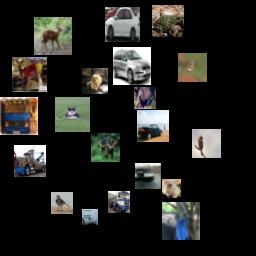automobile: (113, 47, 151, 85), (105, 7, 140, 42), (137, 110, 169, 142)
bird: (162, 202, 200, 240), (178, 53, 207, 82), (192, 129, 221, 158), (51, 192, 73, 214), (134, 87, 156, 109)
cat: (55, 97, 90, 132)
deer: (34, 17, 72, 55), (12, 57, 47, 92), (91, 133, 120, 162)
dog: (82, 68, 108, 94), (162, 179, 181, 198)
frog: (152, 5, 184, 37)
ship: (135, 163, 161, 189), (82, 209, 98, 225)
truck: (0, 97, 38, 135), (14, 145, 46, 177), (108, 191, 130, 213)
